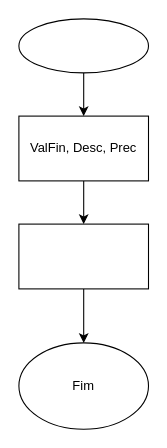
Image size: 167x448. Some labels were removed from this diagram. Here are the shapes that lost their labels. From the top down, the centre of each, then its label:
At [83,45]: "Inicio".
At [83,256]: "ValFin = Prec - Desc".
